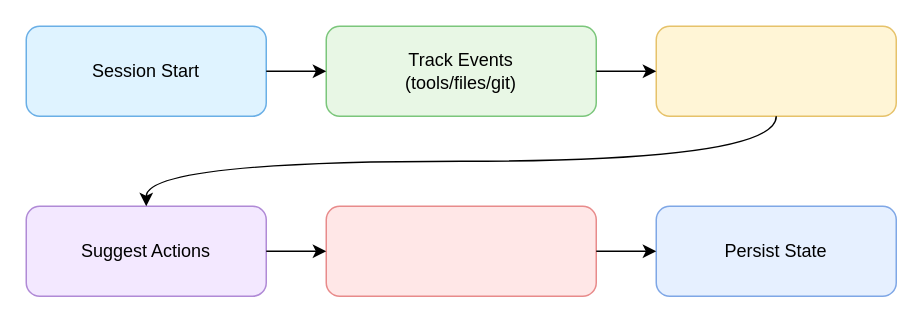
Some shapes in this 923 by 323 pixel diagram are drawn without their labels. The centre of each missing label's shape, as x and y in pixels:
Detect Patterns: [775,70]
Evolve Capability (optional): [460,250]
